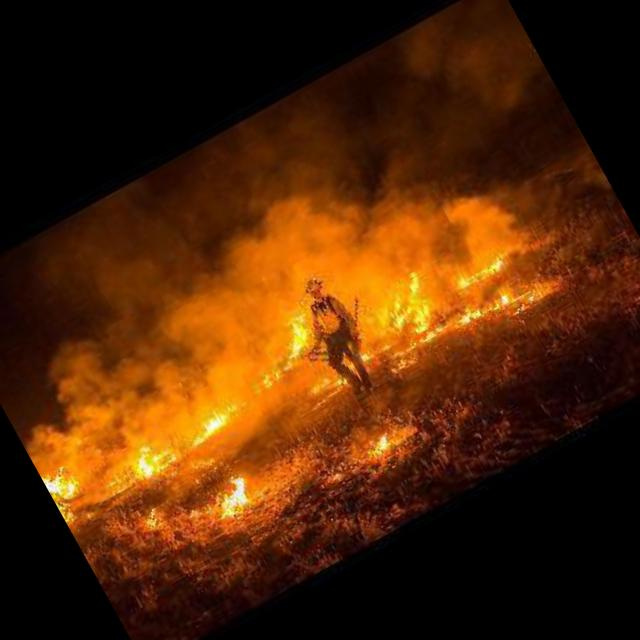fire: (30, 187, 555, 548), (201, 468, 267, 528)
